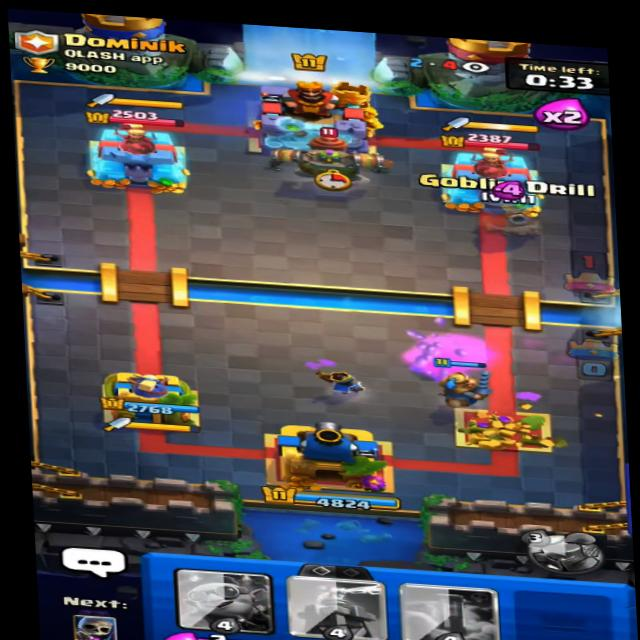goblin-machine: (259, 121, 402, 193)
